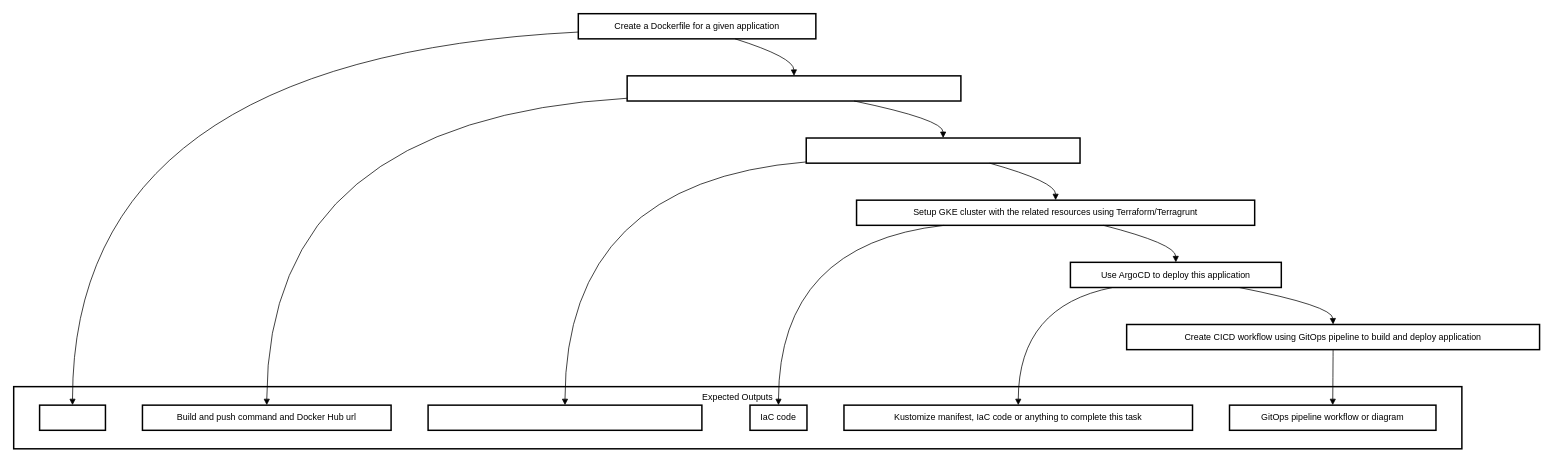
The diagram is 1553 pixels wide and 462 high, and some of its shapes have lost their labels. Each missing label, with the centre of its shape:
Build the image using the Dockerfile and push to Docker Hub: the point at 793,88
Create a Kustomize manifest to deploy the image: the point at 942,150
Dockerfile: the point at 72,417
Kustomize manifest file to deploy the application: the point at 564,417
